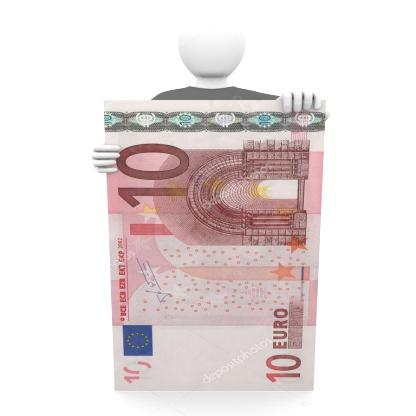euro_banknote: (68, 134, 362, 358)
